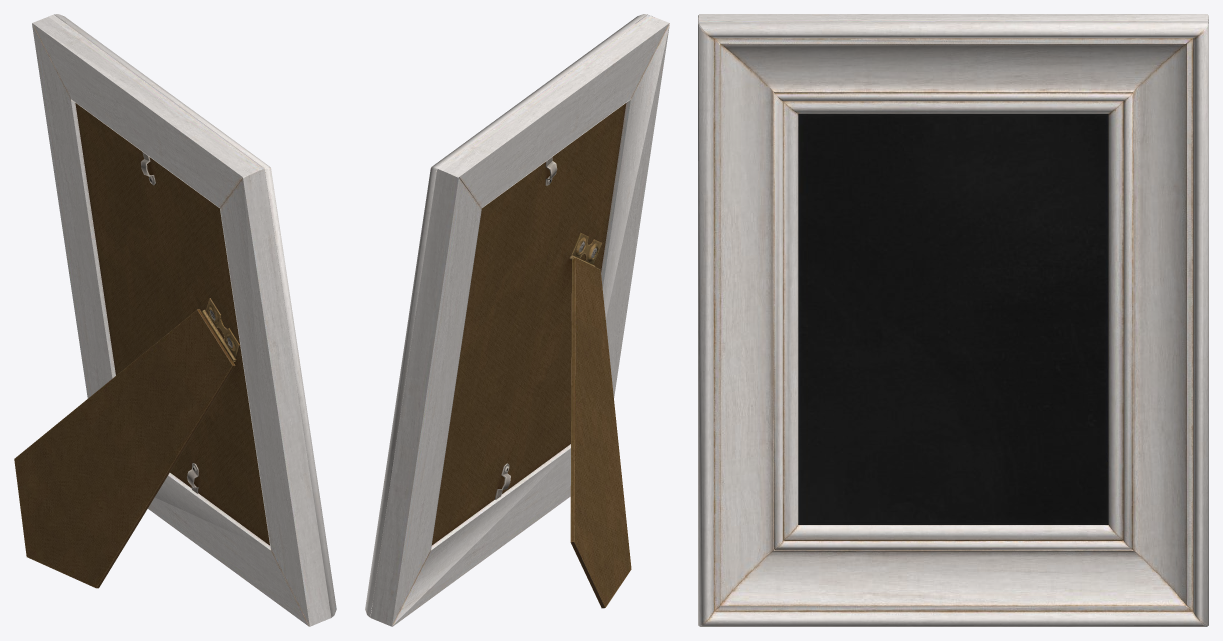
File: standing_picture_frame_02.glb
3 renders of one model, left to right at view 1: azimuth 30°, elevation 25°; view 2: azimuth 150°, elevation 25°; view 3: azimuth 270°, elevation 25°, orthographic. The views are drawn at different scales.
Visible parts, largest first — view 1: standing_picture_frame_02; view 2: standing_picture_frame_02; view 3: standing_picture_frame_02.
Boxes of the visible parts, x1,y1,x2,y2 form: standing_picture_frame_02: [14, 14, 336, 626]; standing_picture_frame_02: [365, 14, 669, 626]; standing_picture_frame_02: [698, 14, 1208, 626].
Size of the model in its own units: 0.1021 by 0.2664 by 0.2169.
3 materials, 3 textured.
